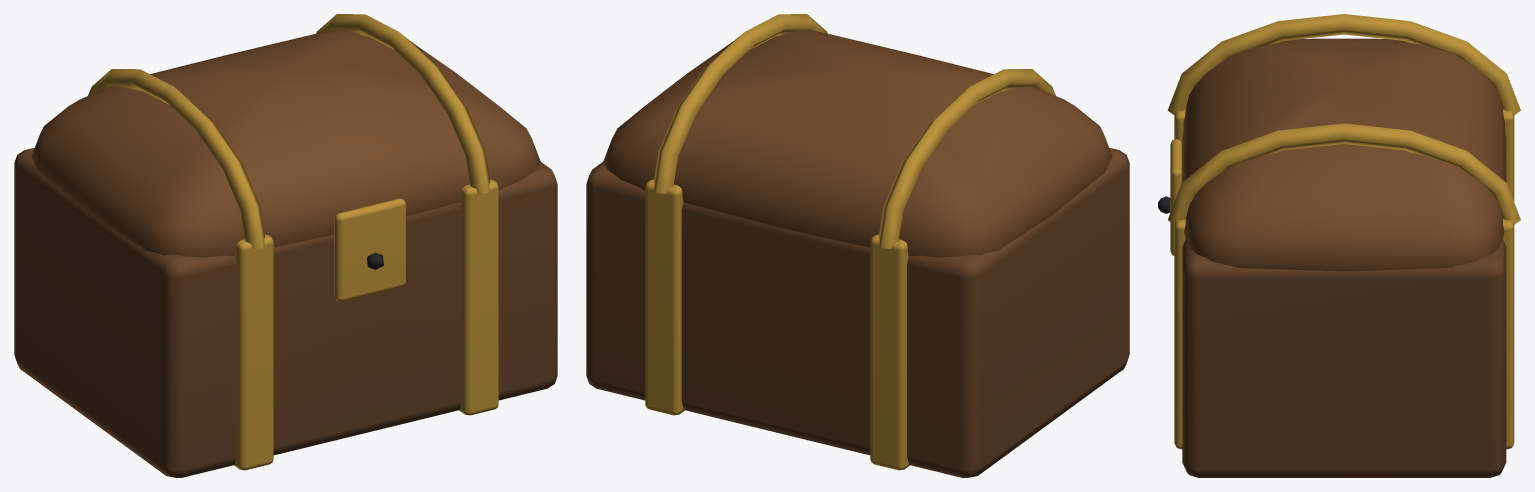
Rendered from furn_lh_trunk.glb.
The picture shows the model from 3 angles, left to right: view 1: azimuth 30°, elevation 25°; view 2: azimuth 150°, elevation 25°; view 3: azimuth 270°, elevation 25°; orthographic projection.
Parts seen in each view (by area): view 1: furn_lh_trunk_main; view 2: furn_lh_trunk_main; view 3: furn_lh_trunk_main.
Part boxes in pixels (<box>): furn_lh_trunk_main: <box>14,14,557,477</box>; furn_lh_trunk_main: <box>586,14,1129,477</box>; furn_lh_trunk_main: <box>1158,14,1520,477</box>.
Size of the model in its own units: 0.56 by 0.436 by 0.4485.
